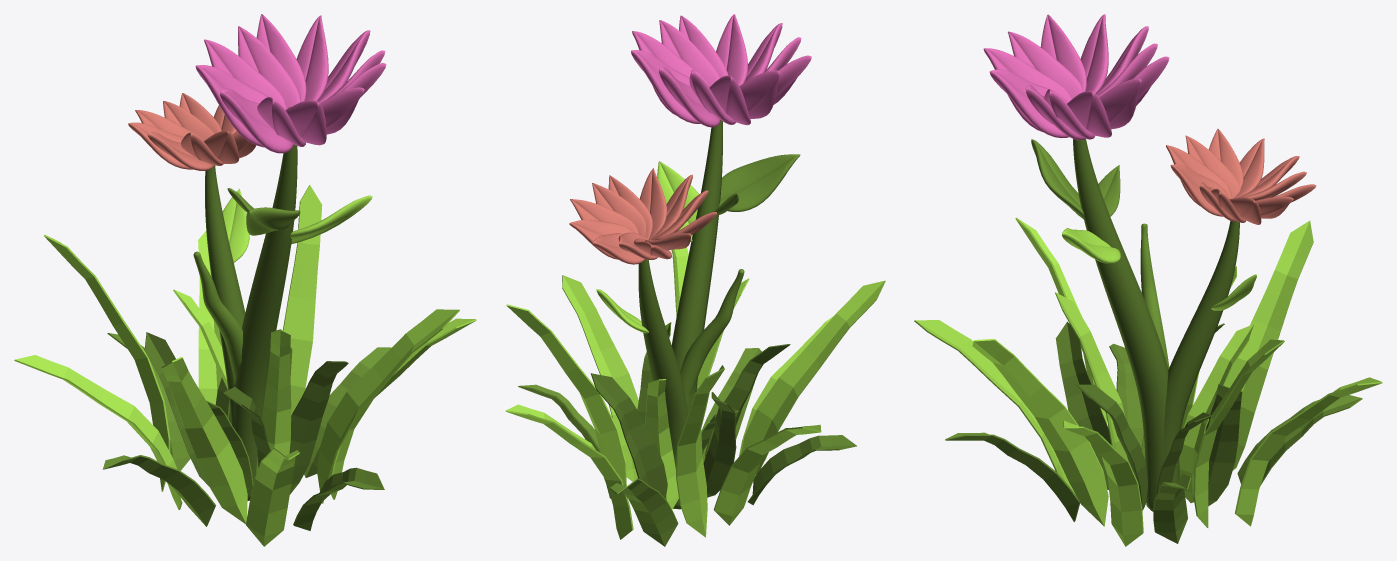
File: FlowerPatch.fbx
The picture shows the model from 3 angles, left to right: view 1: azimuth 30°, elevation 25°; view 2: azimuth 150°, elevation 25°; view 3: azimuth 270°, elevation 25°; orthographic projection. The views are drawn at different scales.
Parts seen in each view (by area): view 1: flower with grass big; view 2: flower with grass big; view 3: flower with grass big.
Part boxes in pixels (x1,y1,x2,y2): flower with grass big: [14, 14, 476, 546]; flower with grass big: [505, 14, 885, 546]; flower with grass big: [914, 14, 1382, 546].
Size of the model in its own units: 273 by 302 by 243.
